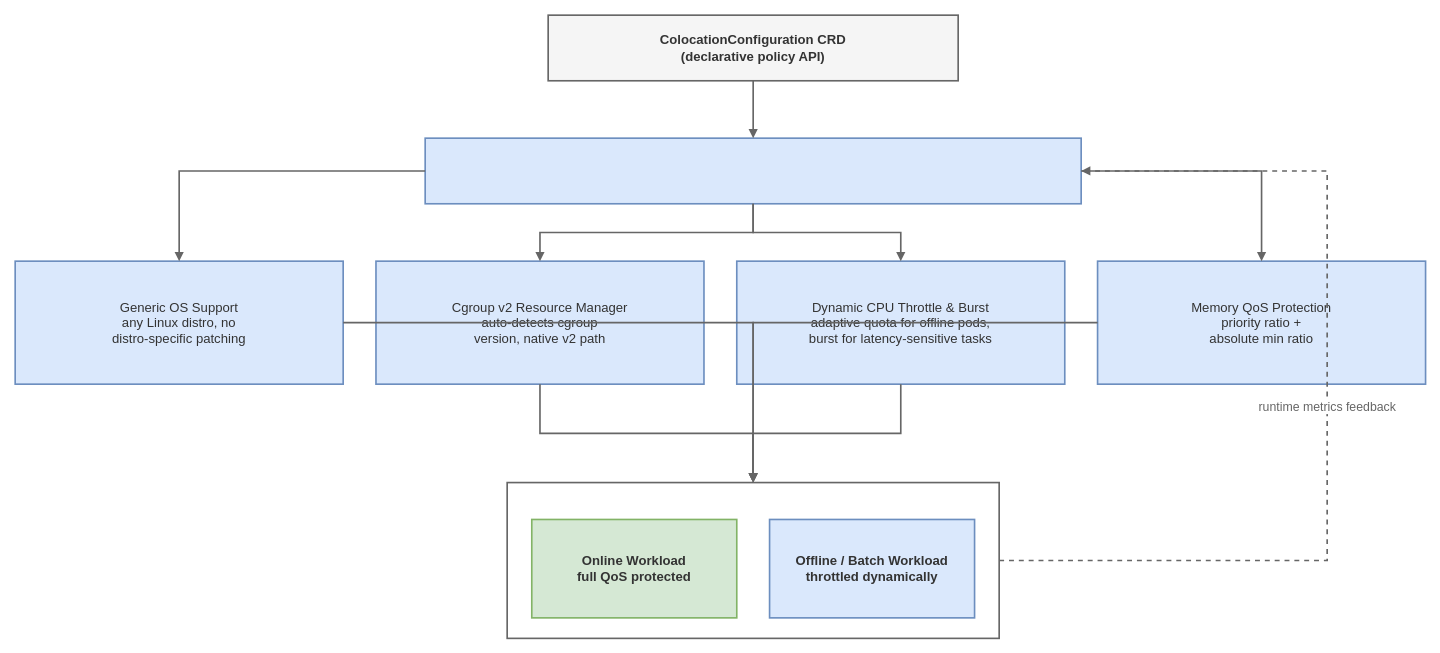
Image size: 1440x653. Some labels were removed from this diagram. Here are the shapes that lost their labels. From the top down, the box of each, then its label:
(424, 137, 1082, 204): Colocation Agent (per-node runtime control loop)
(506, 481, 1000, 639): Node Runtime (enforced)
